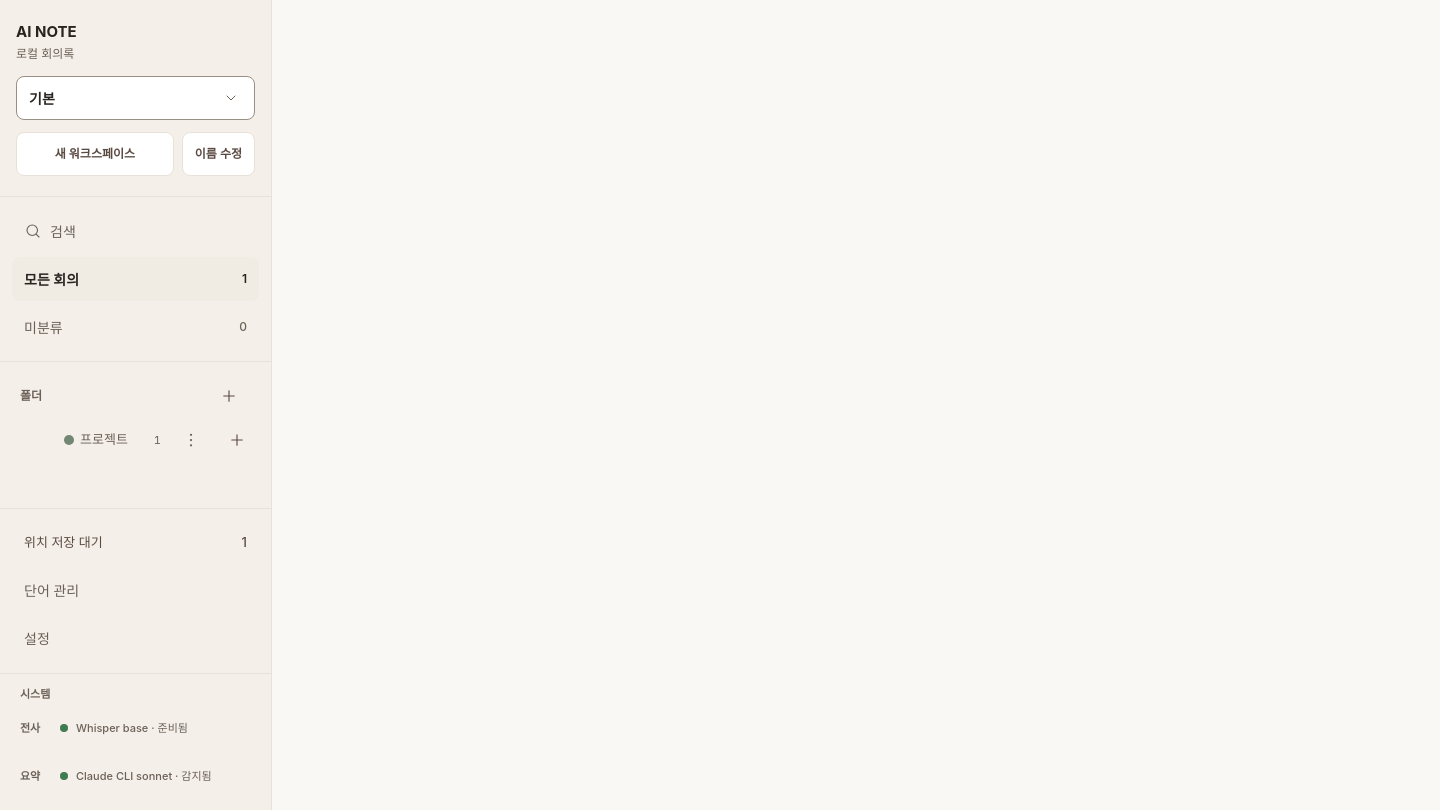
Test: activated library navigation › opens the shared same-workspace folder move picker
The image size is (1440, 810).
Click the button named "프로젝트 폴더 편집" at (191, 440), box [169,418,213,462]
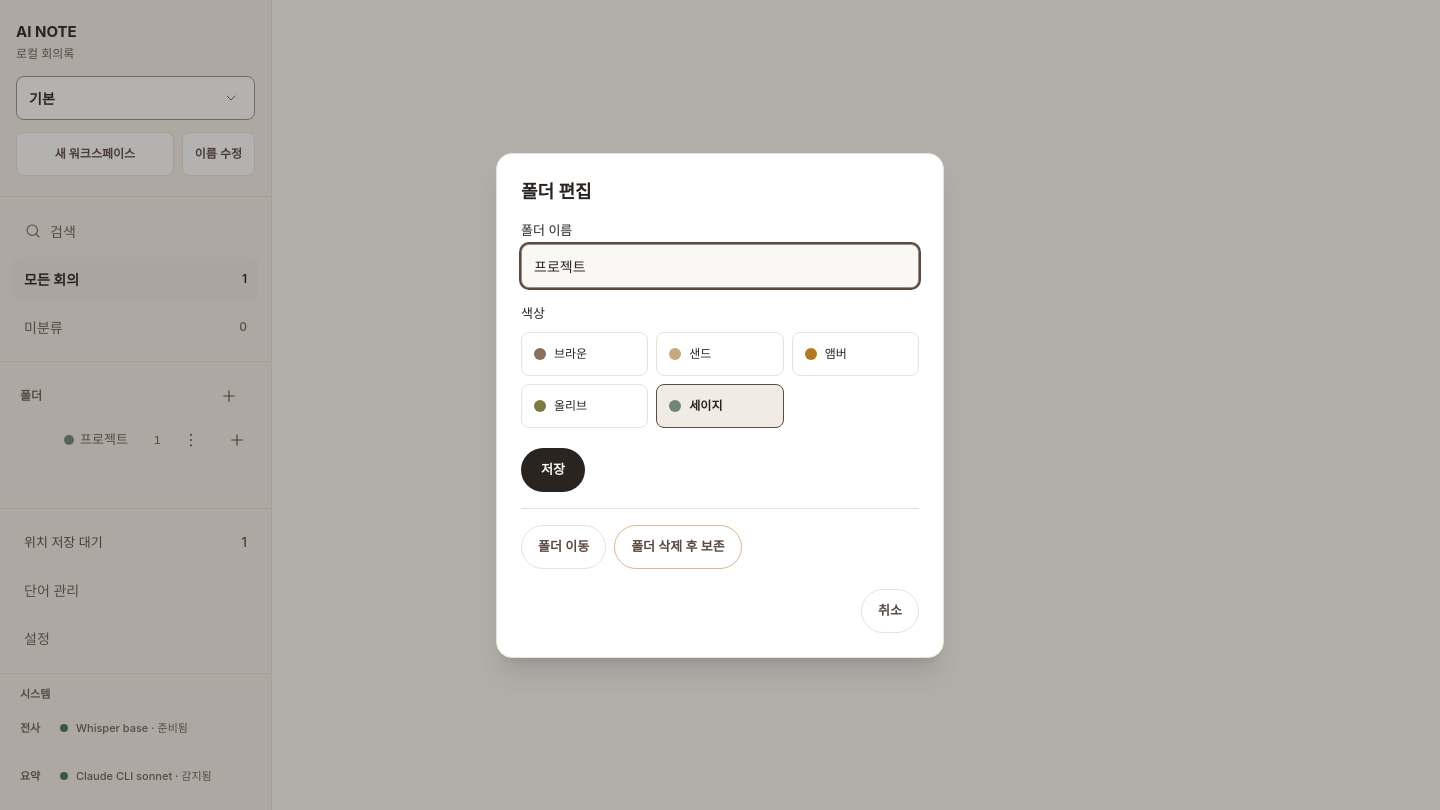
Click the button "폴더 이동" at (564, 546), box [521,524,606,568]
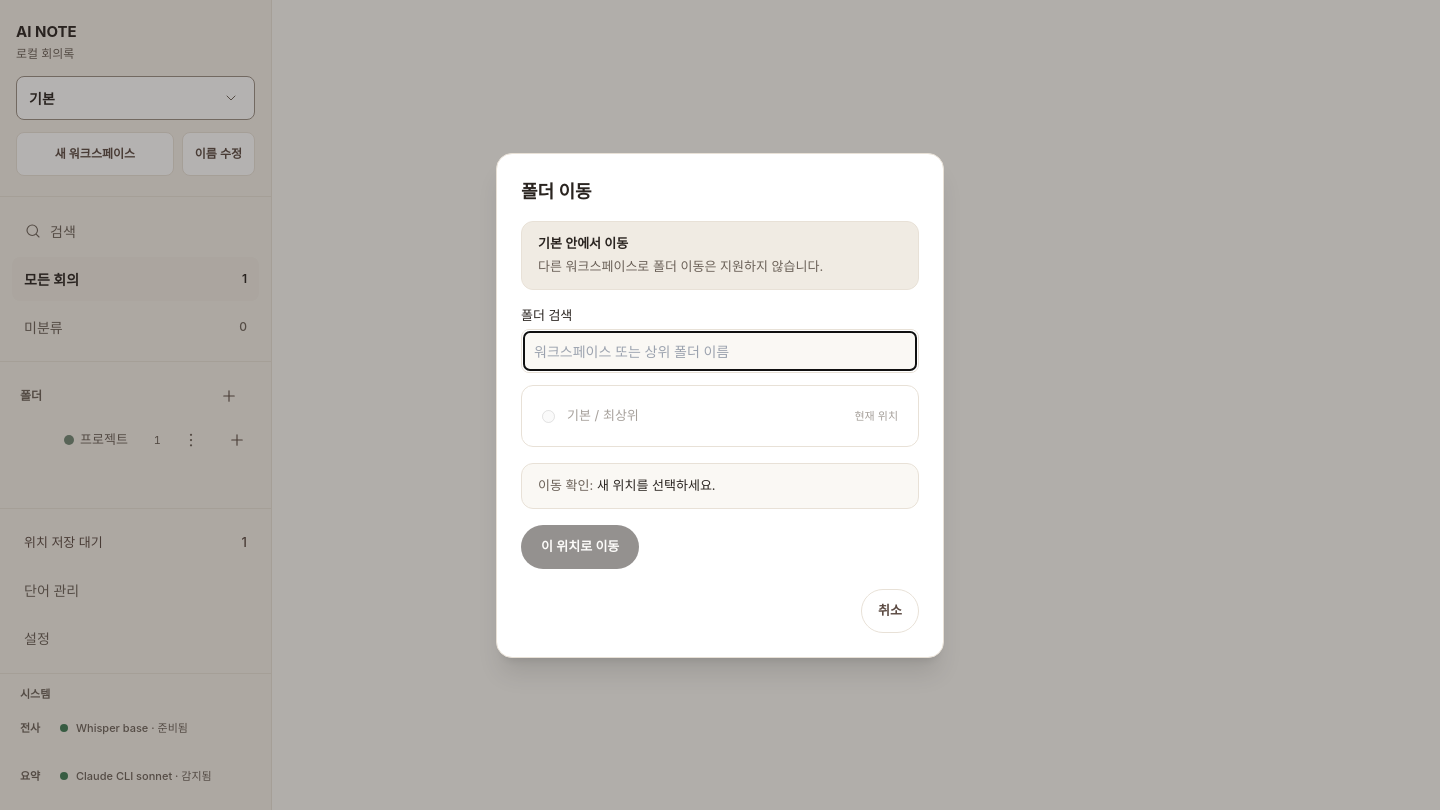
Result: the dialog "폴더 이동" is shown at [496,152,944,658]
Result: the text "다른 워크스페이스로 폴더 이동은 지원하지 않습니다." is shown at [538,258,823,274]
